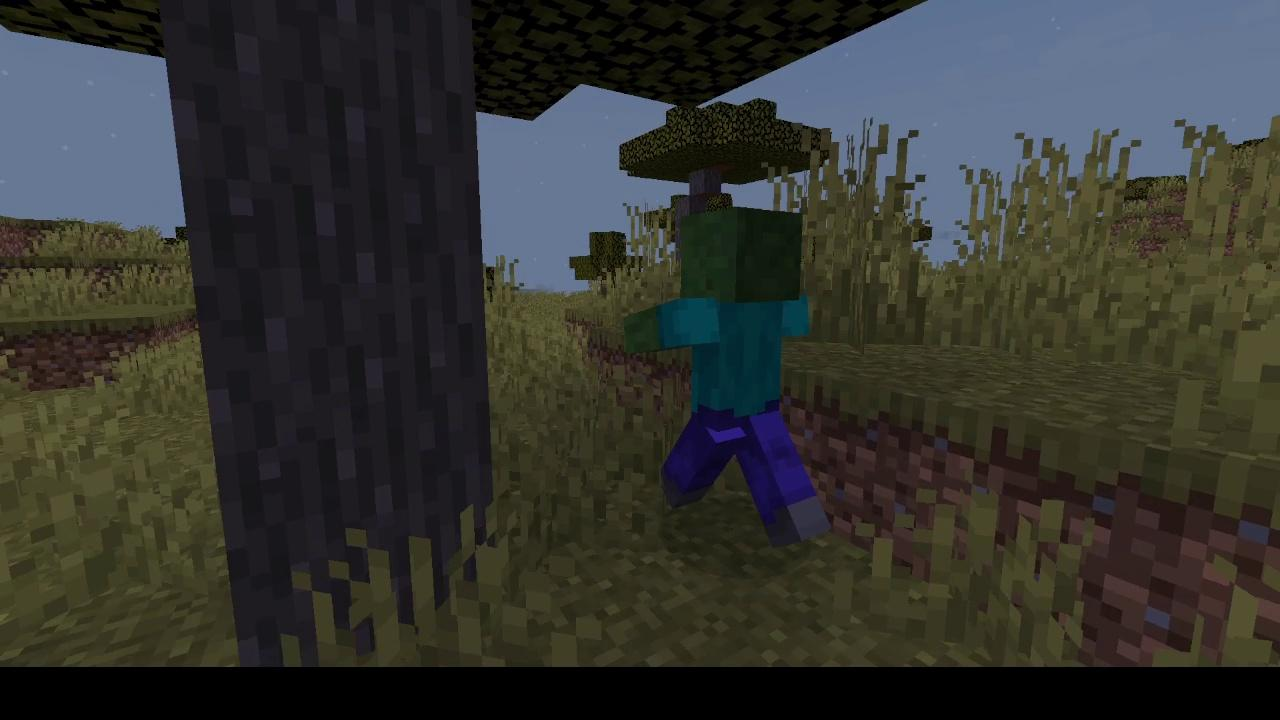zombie: (618, 206, 839, 555)
